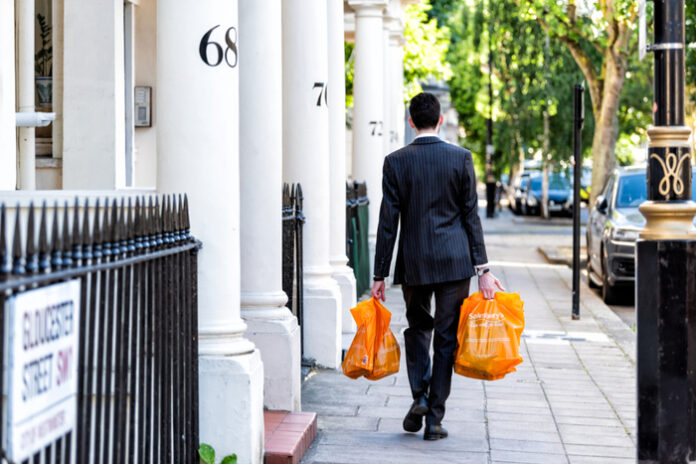plastic_bagwdw: (424, 219, 578, 434), (302, 261, 422, 422)
